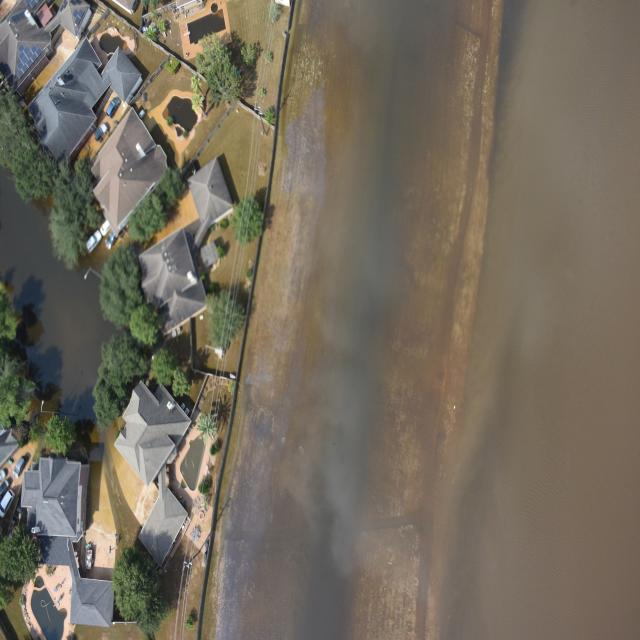fire: (203, 0, 640, 639), (0, 165, 115, 418)
